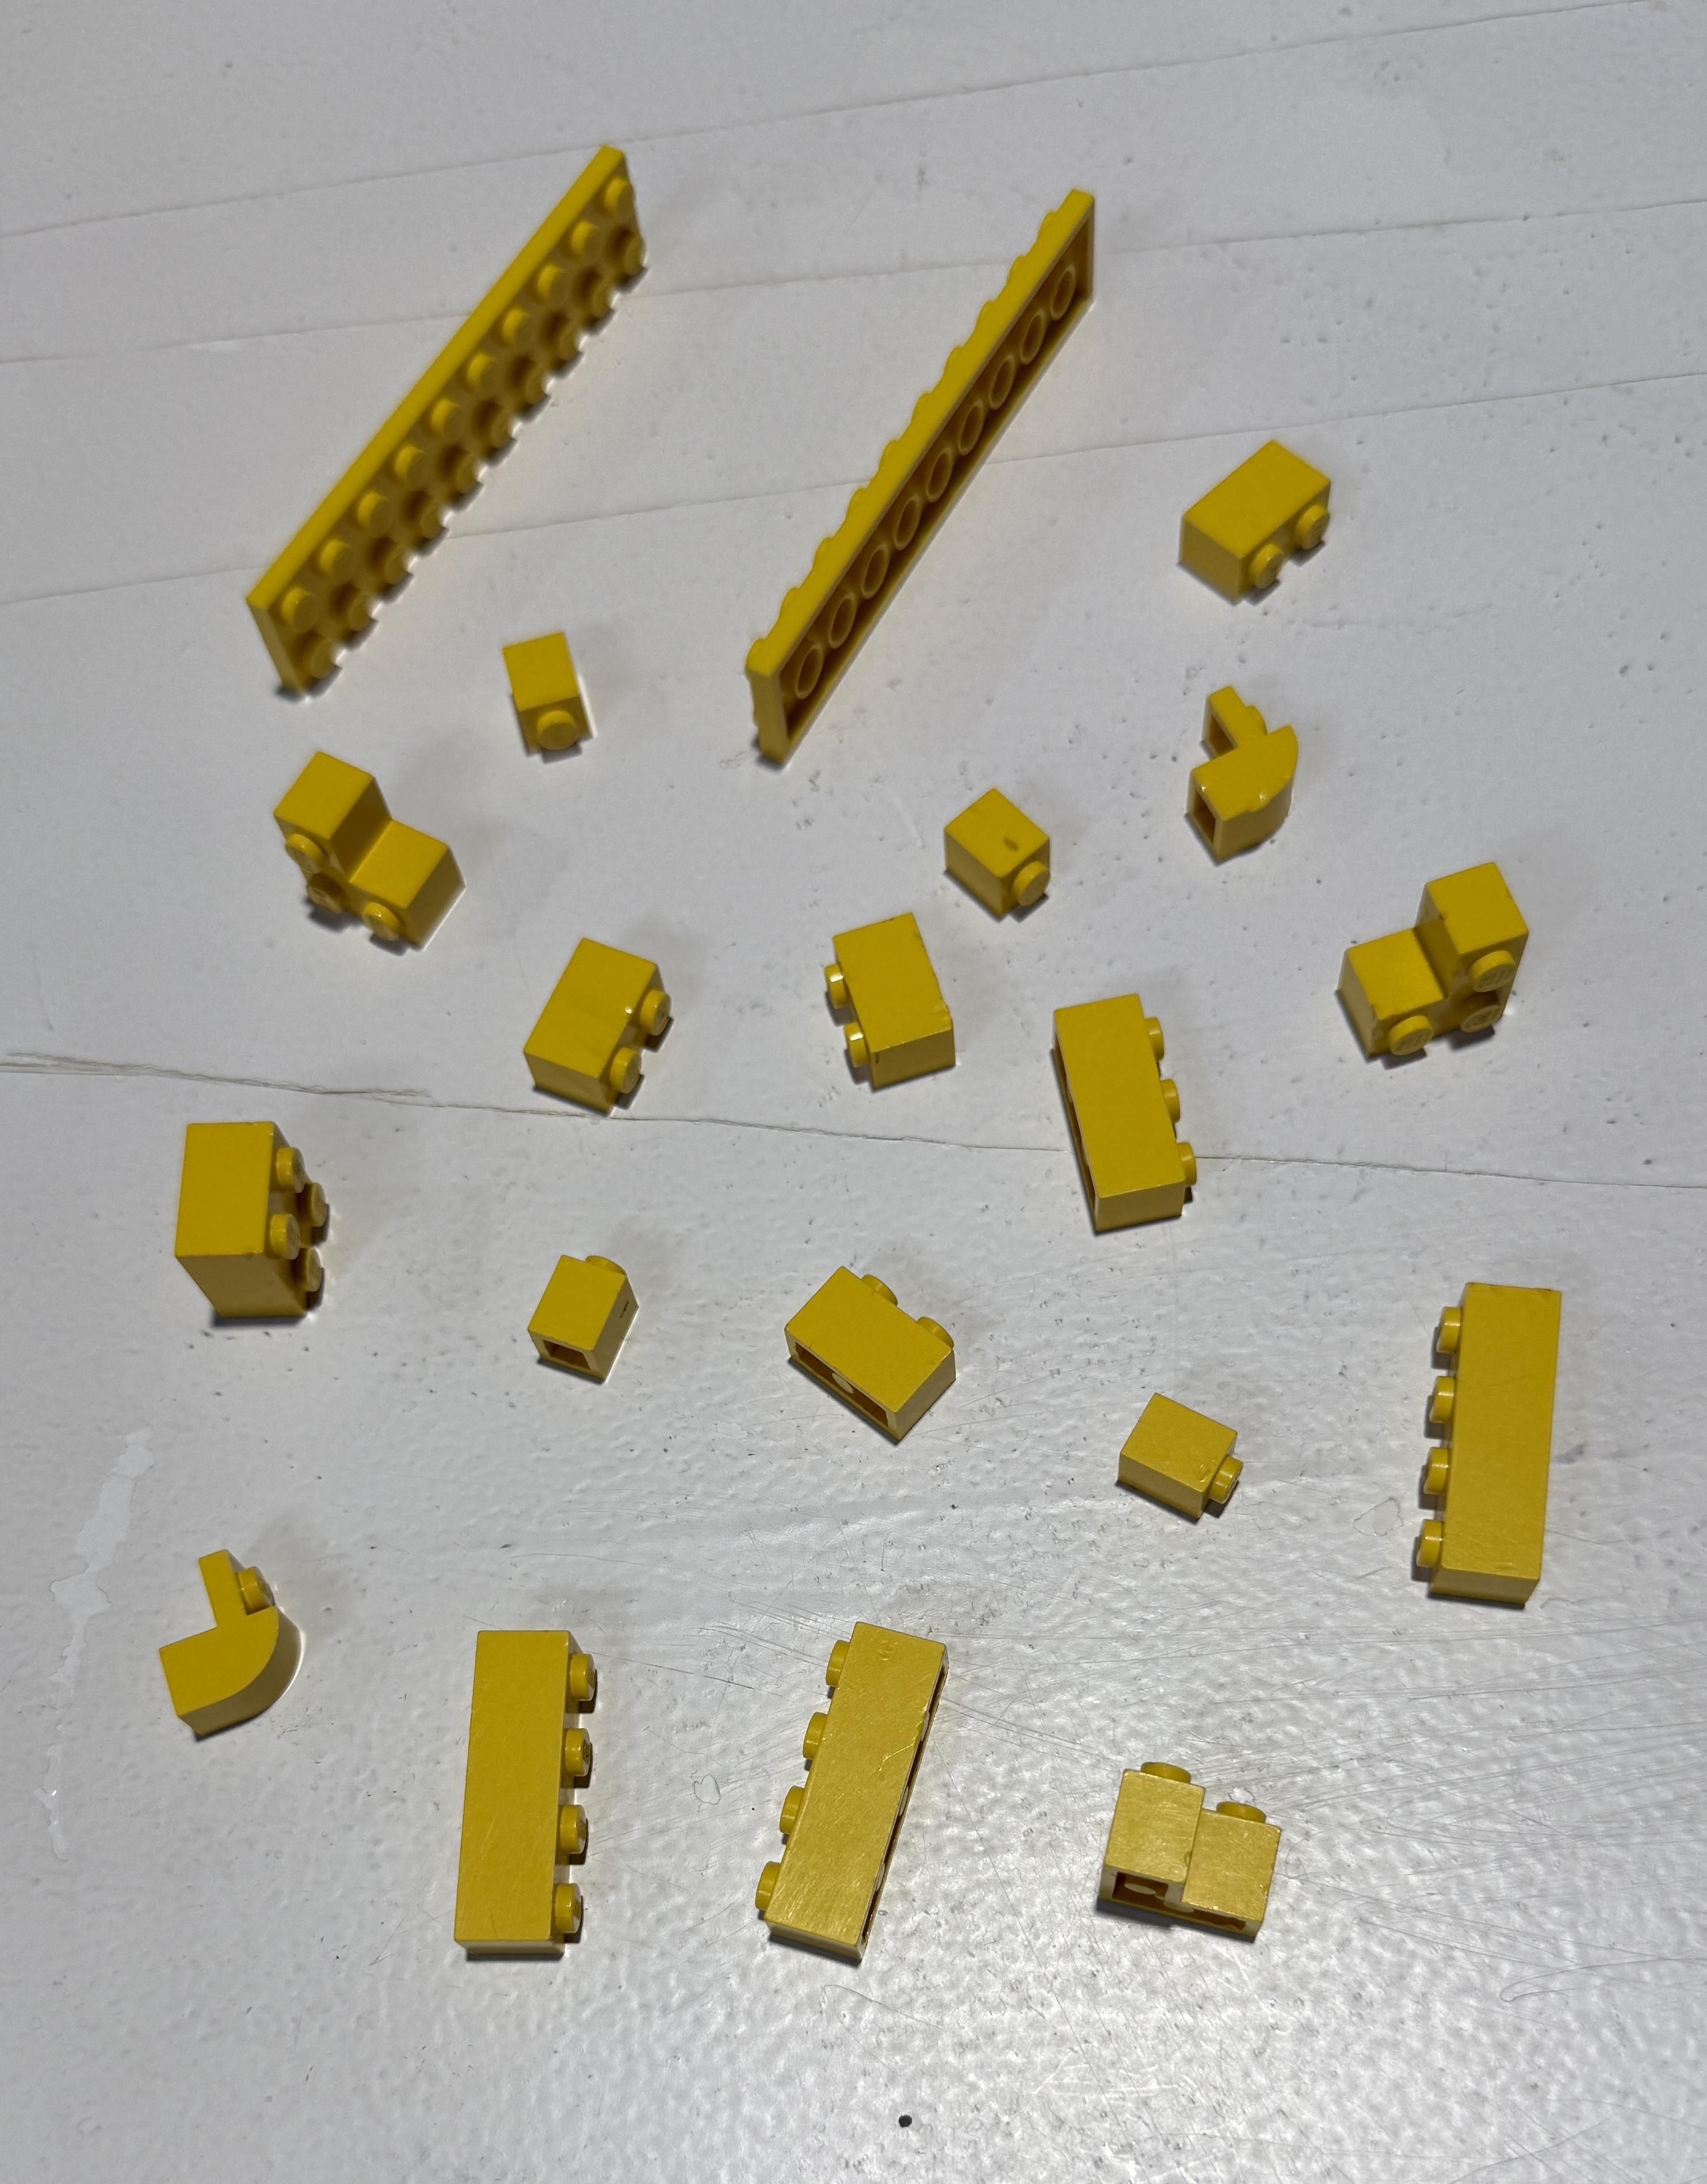brick_1x1: (877, 748, 1095, 954), (1071, 1365, 1289, 1533), (500, 608, 652, 768), (509, 1218, 647, 1388)
brick_1x2: (789, 886, 986, 1133), (495, 901, 693, 1135), (1156, 395, 1351, 629), (771, 1241, 980, 1443)
brick_1x3: (1030, 968, 1216, 1239)
brick_1x4: (425, 1587, 654, 2021), (725, 1606, 961, 1980), (1391, 1232, 1594, 1638)
brick_2x2: (152, 1085, 369, 1347)
